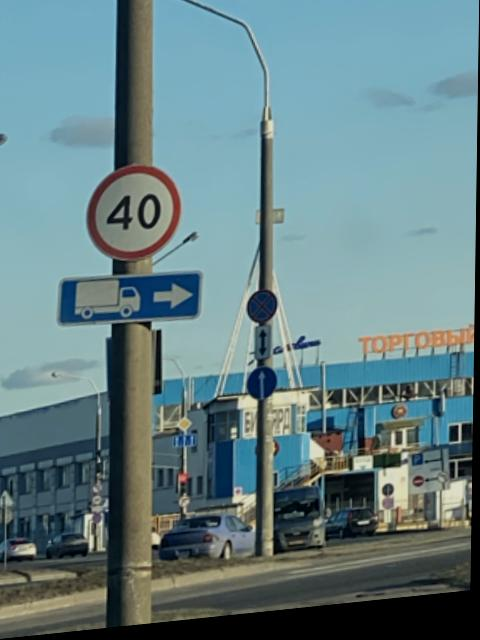limit40: (71, 159, 192, 271)
